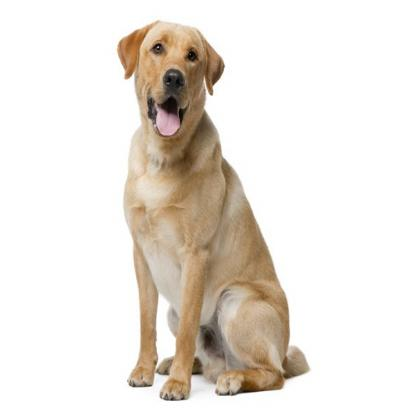dog: (108, 18, 307, 397)
